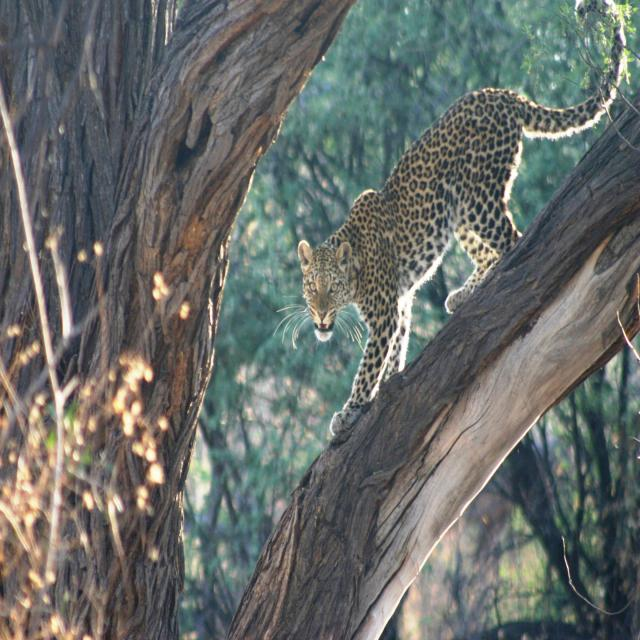Leopard: (277, 38, 626, 455)
